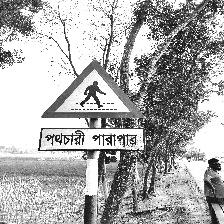Pedestrian-crossing: (39, 61, 145, 154)
